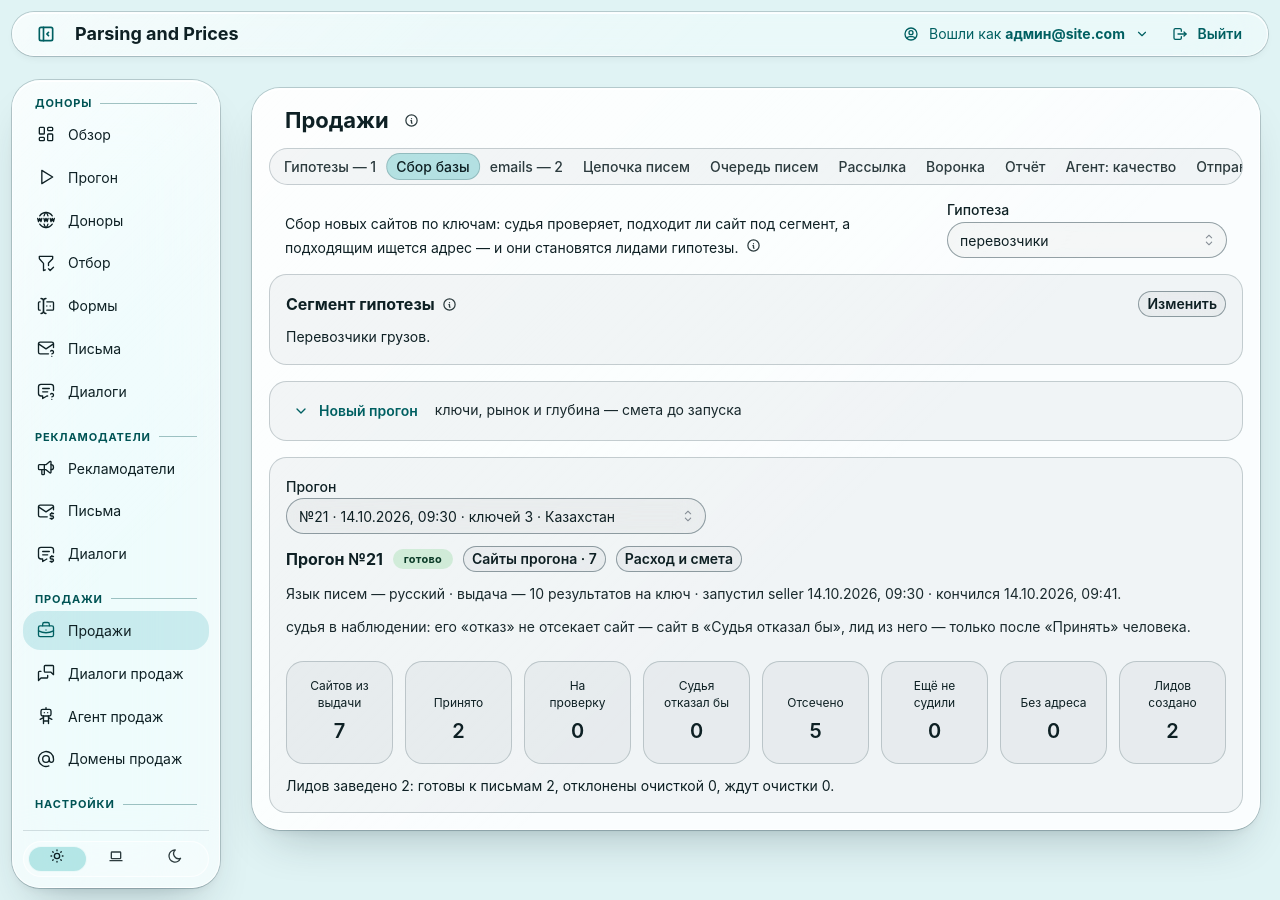
it: сбор базы: ключи и расход в отчёте прогона › ответ без ключей и расхода (старые записи) — в окне только смета на запуске
Expected: the heading "Прогон №21" is shown, top-left (286, 547), bottom-right (383, 571)
Step 1. Click the button "Расход и смета" → (679, 559), box top-left (616, 546), bottom-right (742, 572)
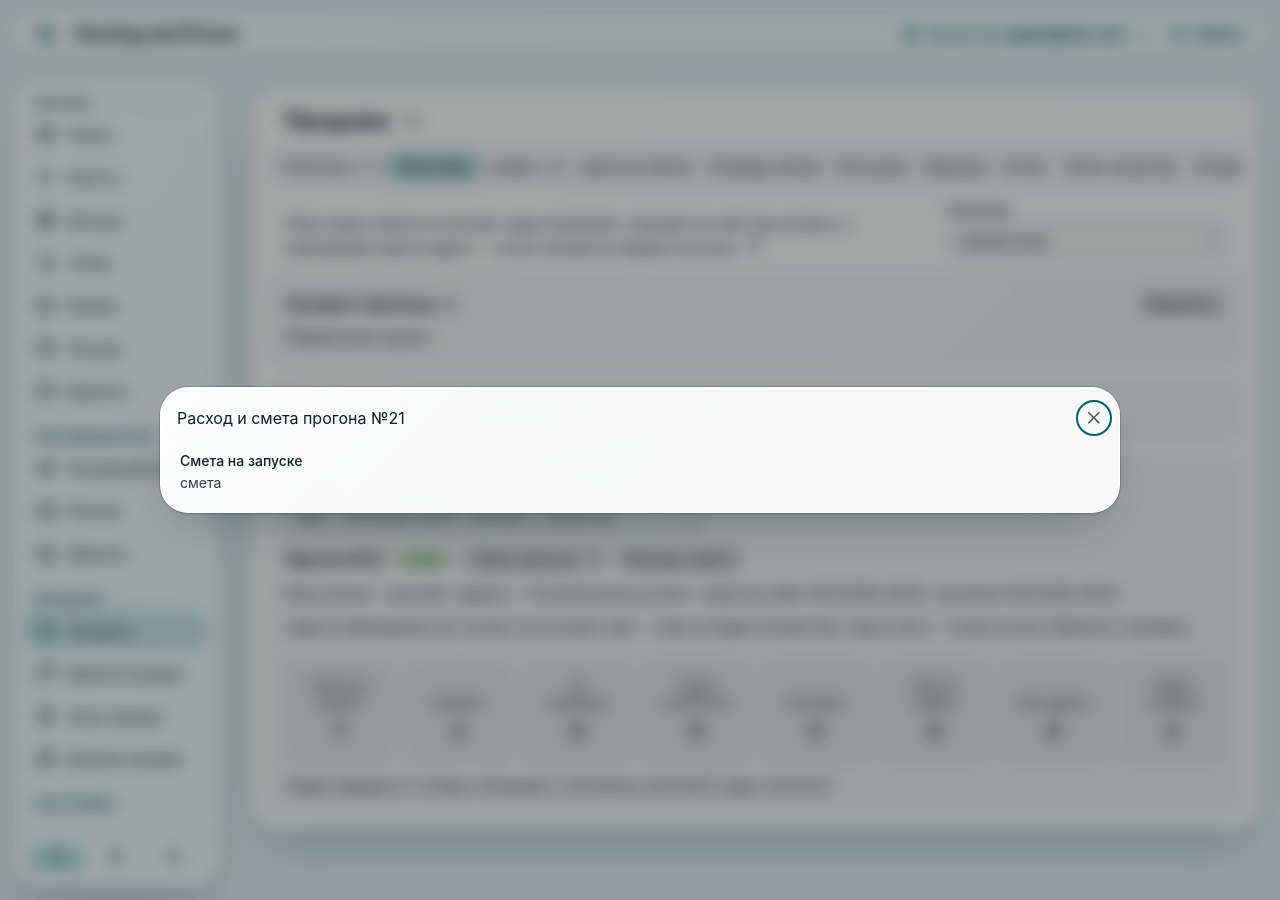
Expected: the text "Смета на запуске" is shown, top-left (180, 452), bottom-right (303, 469)
